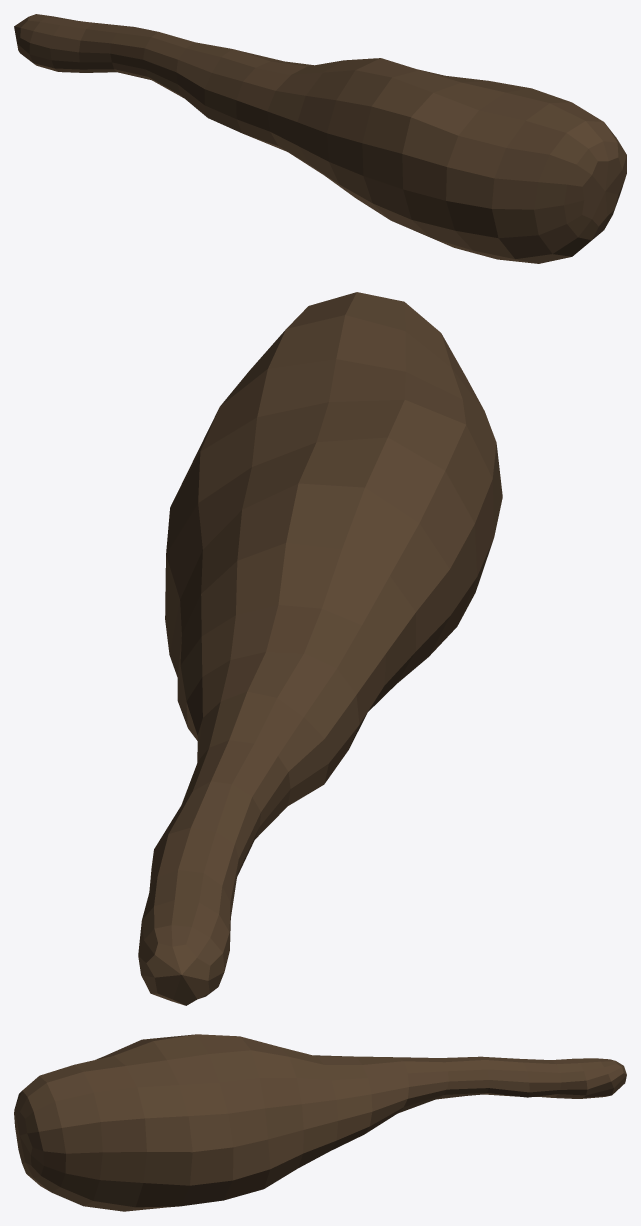
File: Enemy Club.fbx
The picture shows the model from 3 angles, top to bottom: view 1: azimuth 30°, elevation 25°; view 2: azimuth 150°, elevation 25°; view 3: azimuth 270°, elevation 25°; orthographic projection. The views are drawn at different scales.
Visible parts, largest first — view 1: Club.001; view 2: Club.001; view 3: Club.001.
Part boxes in pixels (x1,y1,x2,y2): Club.001: (14,14,626,263); Club.001: (138,292,502,1005); Club.001: (14,1034,626,1211).
Bounding box in the file's own units: 238 × 135 × 521.
